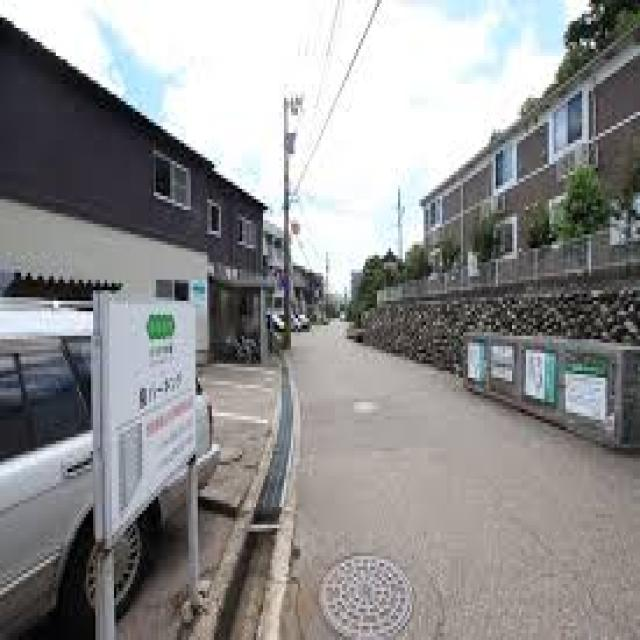manhole: (320, 554, 415, 637)
